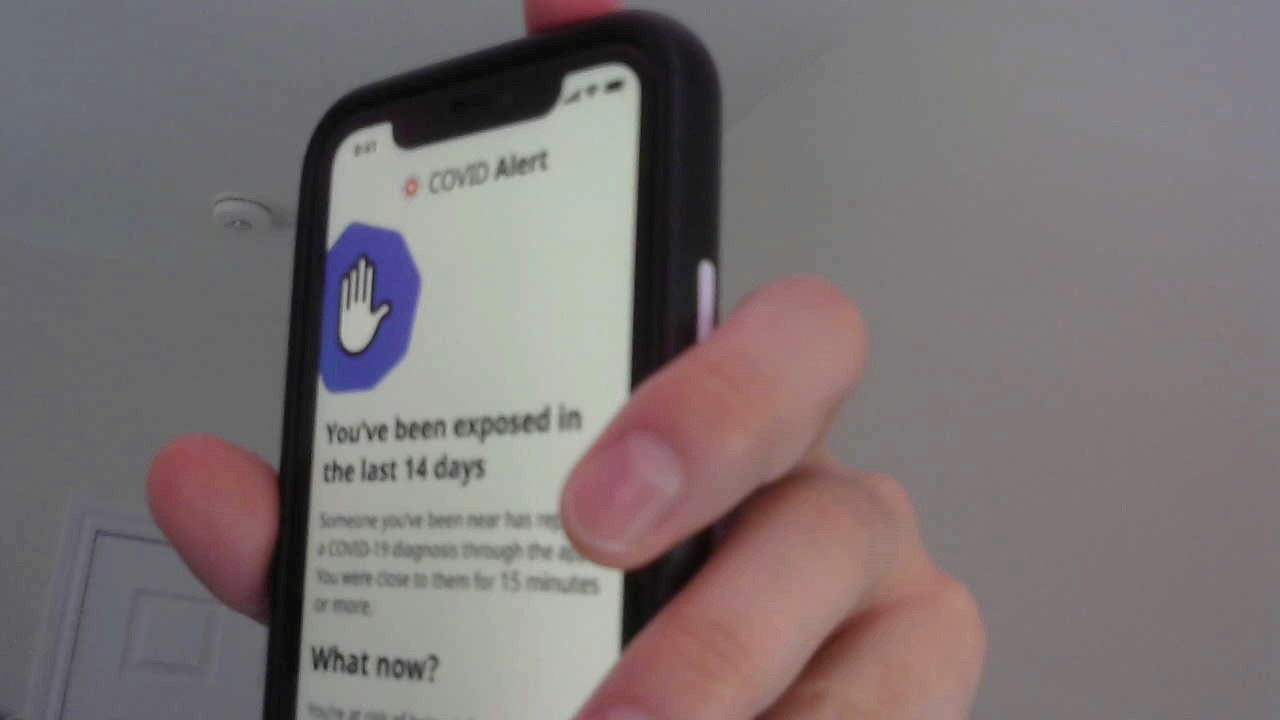Exposed: (306, 213, 649, 499)
